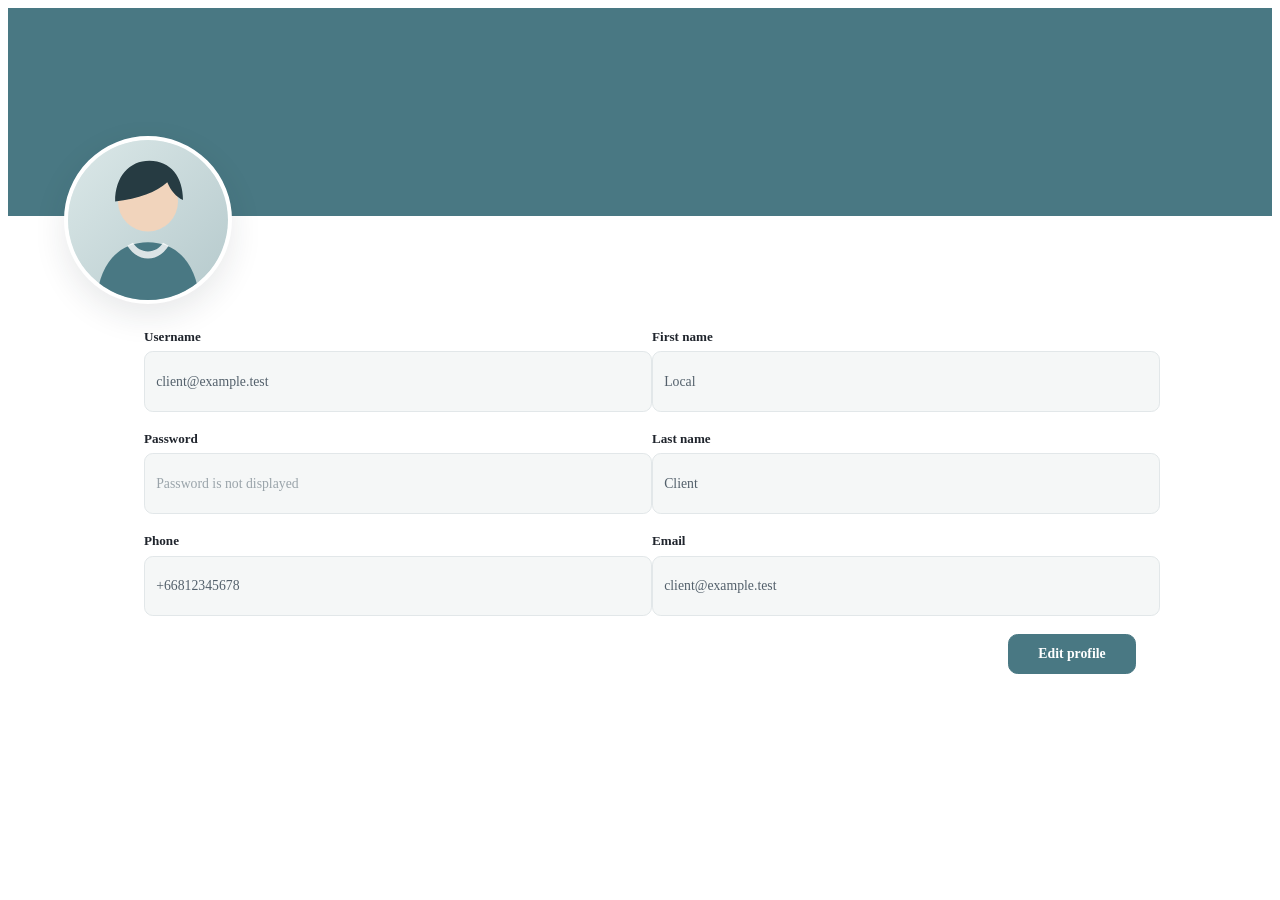
Test: user profile view › restores the saved phone number when editing is cancelled
The width and height of the screenshot is (1280, 900).
Click the button "Edit profile". click: (1072, 654)
box: [1008,634,1136,674]
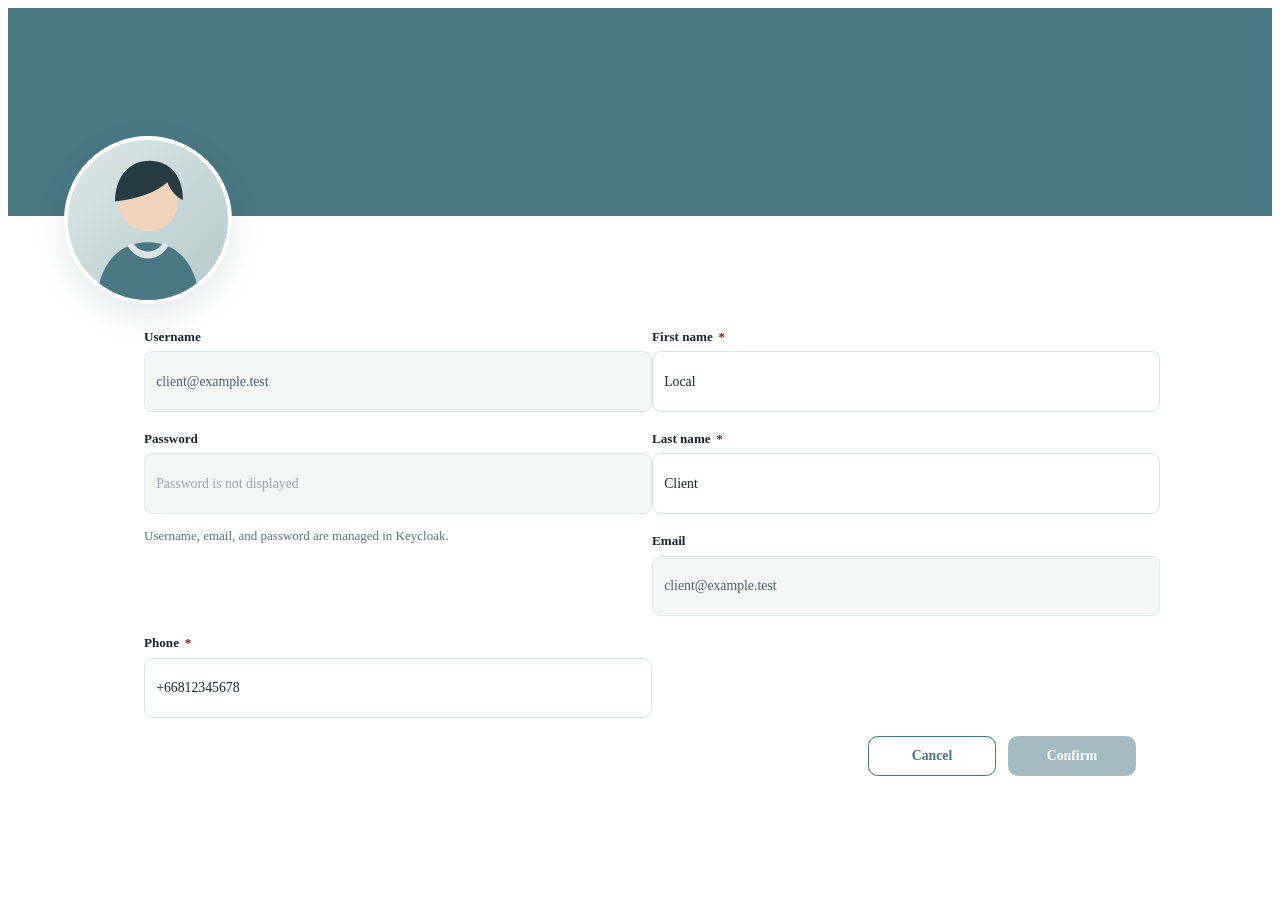
Replace the text in the field labelled "Phone *" with "081 111 1111". click: (398, 688)
box: [144,658,652,718]
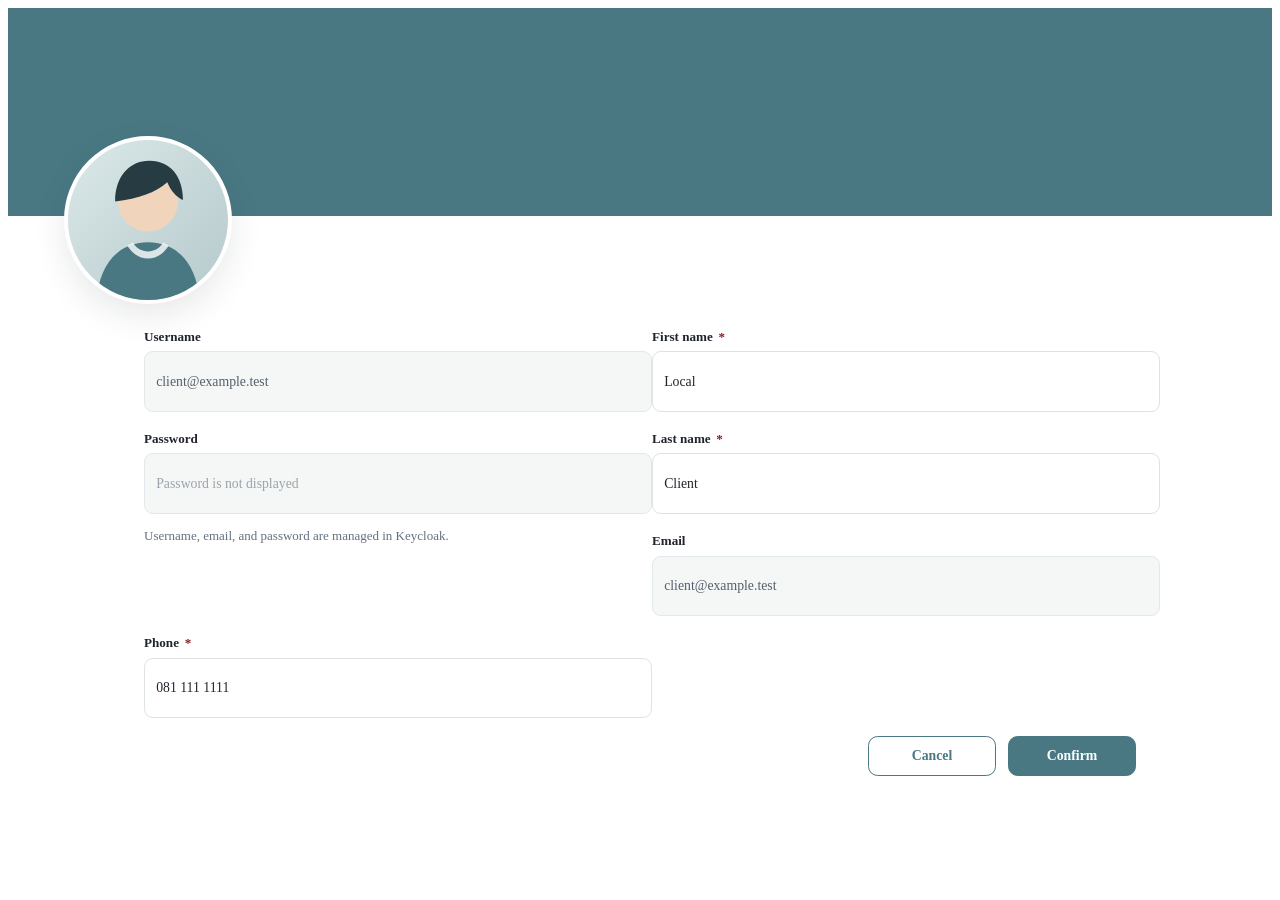
Click the button with class "secondary-button". click: (932, 756)
box: [868,736,996,776]
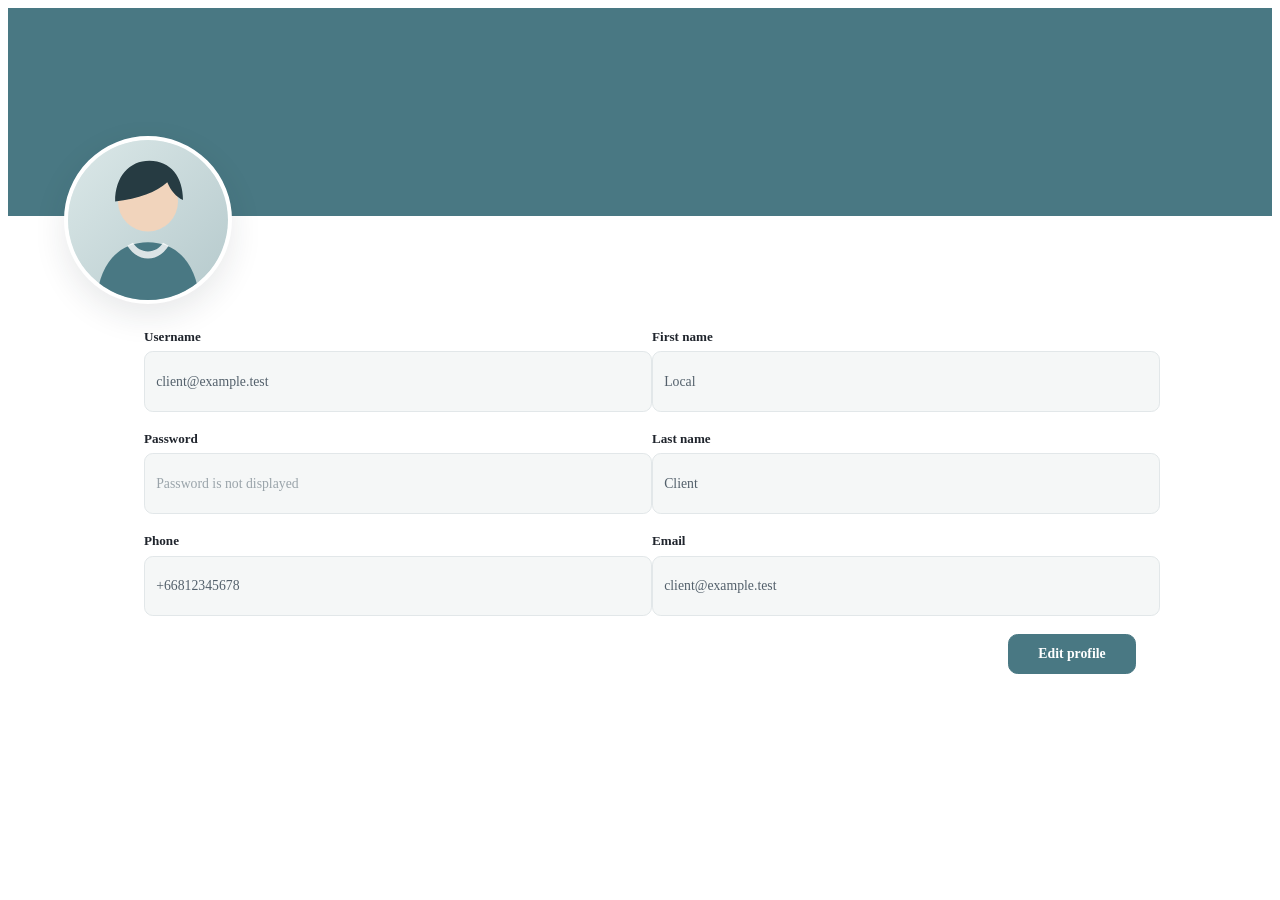
Expected: the field labelled "Phone" holds "+66812345678", [144,556,652,616]
